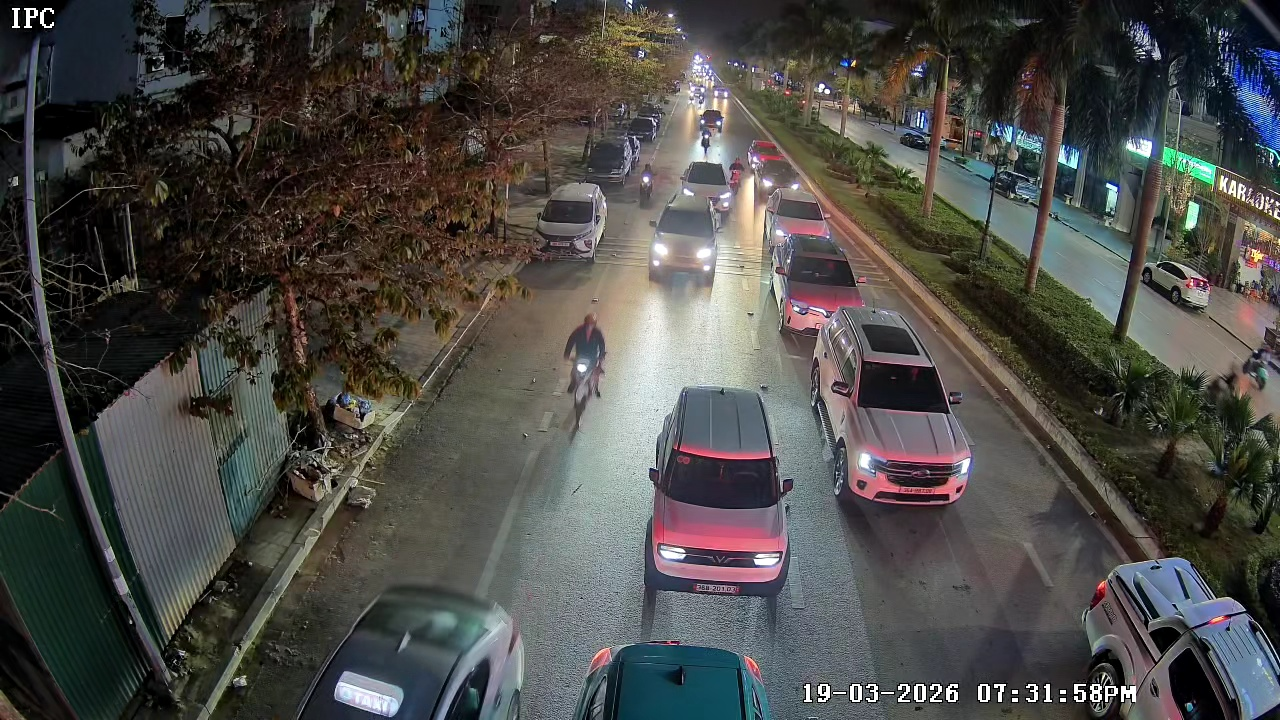car: (640, 383, 797, 609), (809, 304, 974, 507), (293, 580, 532, 719), (1077, 556, 1279, 719), (768, 233, 864, 339), (647, 193, 720, 285), (534, 180, 609, 265), (762, 184, 831, 262), (679, 155, 738, 227), (748, 139, 801, 200), (583, 132, 639, 188)
motorbike: (564, 310, 609, 412), (699, 105, 722, 140), (638, 165, 655, 208), (730, 155, 745, 192), (699, 130, 714, 154)
